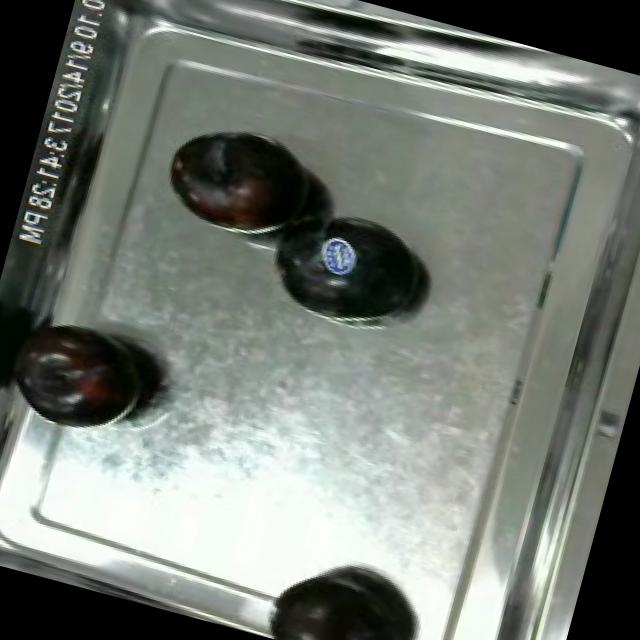Fruit: (247, 190, 438, 340), (154, 108, 328, 250), (0, 303, 170, 448), (261, 548, 431, 640)
